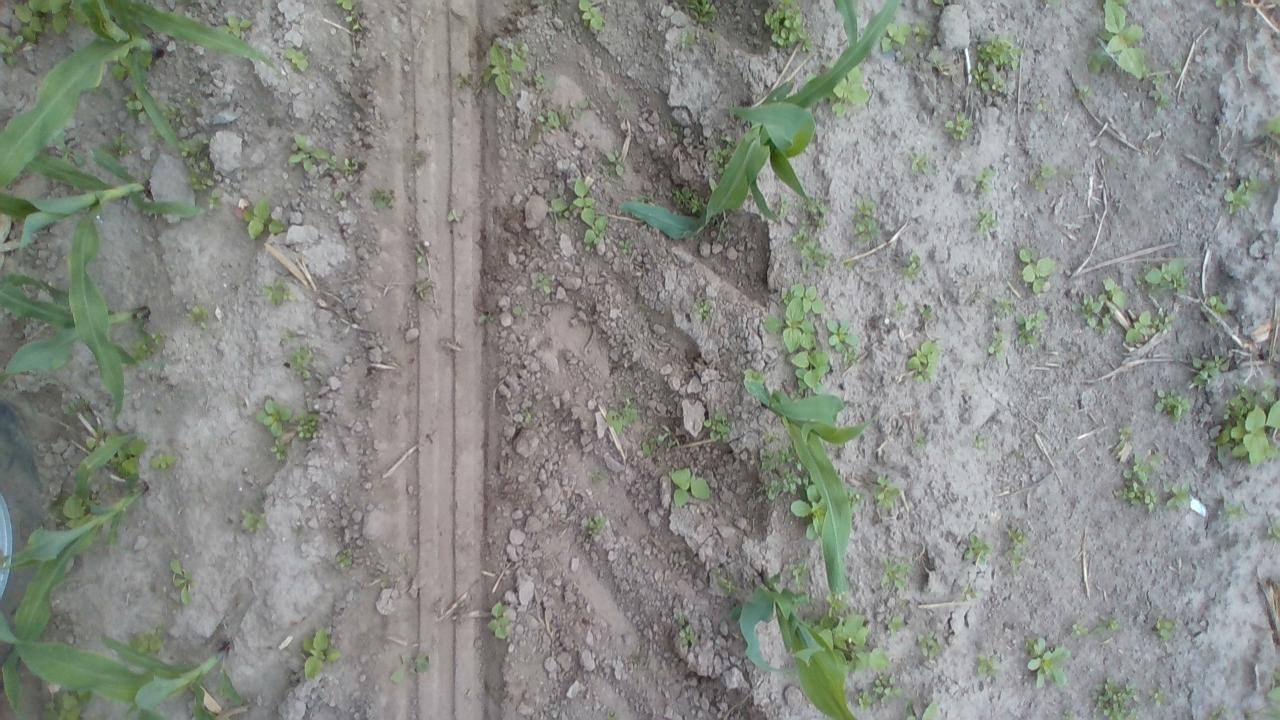Maize: (620, 0, 900, 242), (1, 140, 200, 420), (0, 434, 153, 710), (0, 0, 181, 187), (744, 379, 872, 618), (0, 611, 233, 720), (0, 273, 147, 399), (741, 562, 854, 720), (114, 0, 278, 74), (834, 0, 861, 43)
Weeds: (765, 282, 832, 395), (1218, 375, 1280, 466), (1100, 0, 1148, 82), (1113, 446, 1161, 511), (764, 0, 818, 51), (570, 178, 609, 243), (760, 437, 800, 500), (1028, 631, 1069, 690), (1080, 278, 1123, 334), (482, 41, 524, 96), (789, 484, 828, 542), (1094, 673, 1140, 720), (300, 628, 340, 680), (824, 319, 862, 368), (672, 465, 713, 510), (1020, 246, 1056, 294), (244, 199, 286, 238), (38, 0, 86, 33), (1016, 306, 1054, 346), (906, 340, 942, 382), (1193, 349, 1231, 388), (976, 36, 1022, 68), (836, 72, 869, 116), (290, 133, 326, 173), (1227, 172, 1261, 213), (834, 612, 866, 654), (799, 240, 837, 275), (1145, 254, 1189, 284), (168, 558, 196, 605), (38, 691, 82, 720), (802, 192, 832, 234), (254, 398, 289, 434), (872, 472, 904, 510), (852, 198, 878, 244), (881, 557, 914, 593), (114, 437, 144, 474), (392, 650, 426, 682), (606, 402, 641, 433), (1154, 387, 1190, 417), (872, 670, 905, 702), (668, 183, 702, 213), (1124, 310, 1152, 346), (578, 0, 609, 32), (489, 600, 515, 638), (945, 112, 974, 146), (1164, 474, 1192, 509), (962, 530, 992, 562), (264, 278, 298, 306), (883, 23, 909, 57), (16, 5, 42, 38), (1154, 613, 1184, 640), (127, 628, 163, 650), (214, 17, 251, 38), (63, 492, 85, 526), (1028, 162, 1058, 186), (908, 149, 932, 179), (975, 166, 998, 196), (882, 613, 912, 636), (0, 36, 26, 62), (704, 413, 730, 439), (686, 0, 718, 21), (978, 651, 1001, 679), (285, 47, 309, 73), (907, 698, 935, 720), (786, 561, 808, 589), (986, 330, 1006, 360), (289, 347, 313, 371), (973, 64, 995, 90), (1223, 502, 1245, 528), (1000, 548, 1026, 570), (900, 251, 921, 277), (240, 510, 266, 531), (532, 271, 555, 294), (532, 66, 554, 90), (298, 414, 322, 436), (1086, 48, 1106, 74), (131, 340, 157, 360), (111, 134, 132, 158), (1148, 87, 1172, 108), (1008, 526, 1033, 546), (856, 690, 876, 715), (605, 150, 624, 176), (979, 212, 998, 238), (678, 28, 698, 52), (716, 572, 740, 592), (570, 98, 592, 118), (1260, 114, 1280, 136), (826, 594, 848, 614), (916, 304, 938, 324), (586, 515, 606, 537), (641, 439, 660, 462), (714, 146, 730, 173), (1268, 668, 1280, 704), (1209, 296, 1230, 316), (994, 296, 1014, 316), (1116, 425, 1136, 445), (704, 26, 726, 44), (270, 440, 288, 461), (150, 456, 177, 470), (148, 326, 168, 344), (187, 174, 209, 190), (343, 12, 362, 30), (962, 587, 982, 604), (922, 638, 938, 659), (180, 140, 198, 158), (550, 198, 570, 214), (912, 22, 928, 42), (681, 626, 696, 647), (136, 49, 152, 68), (1078, 82, 1092, 103), (122, 98, 143, 112), (538, 112, 558, 126), (112, 59, 125, 80), (618, 238, 634, 255), (193, 305, 209, 322), (1152, 688, 1164, 710), (792, 229, 808, 245), (698, 302, 712, 320), (846, 491, 862, 506), (161, 106, 181, 118), (1159, 314, 1172, 332), (744, 368, 764, 379), (915, 436, 930, 450), (377, 192, 391, 207), (1216, 0, 1238, 9), (1105, 615, 1120, 628), (974, 436, 986, 452), (335, 0, 354, 10), (1072, 626, 1085, 640), (1177, 278, 1189, 292), (338, 550, 352, 562), (344, 160, 356, 174), (208, 195, 219, 210), (1152, 72, 1166, 83), (896, 300, 908, 312), (328, 156, 338, 170), (1036, 98, 1048, 109), (933, 0, 946, 7)
